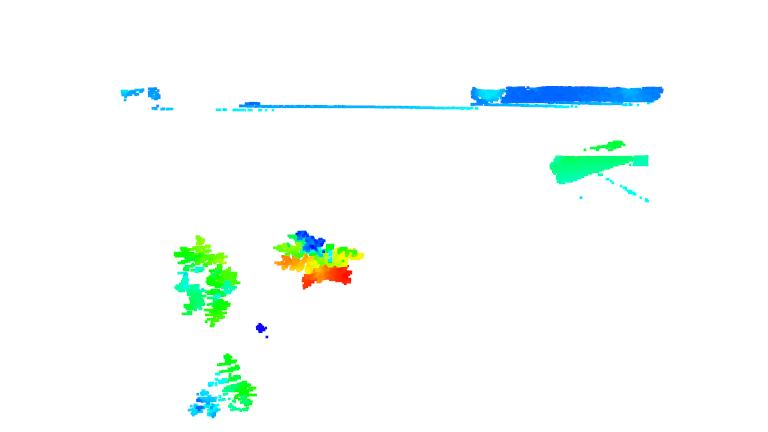chickpea: (269, 228, 369, 290), (182, 348, 260, 422), (174, 263, 259, 330), (171, 233, 236, 274)
